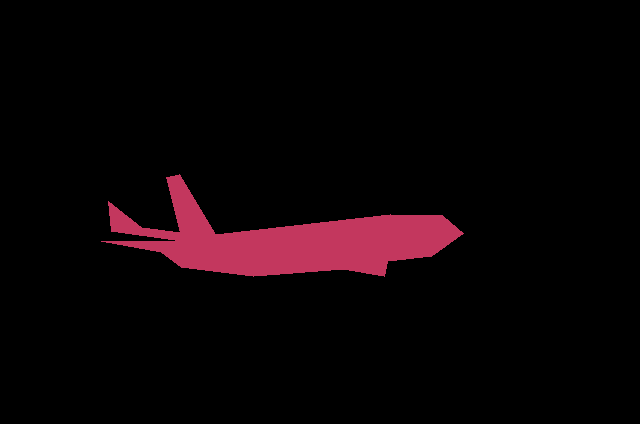Airplane: (101, 174, 464, 277)
